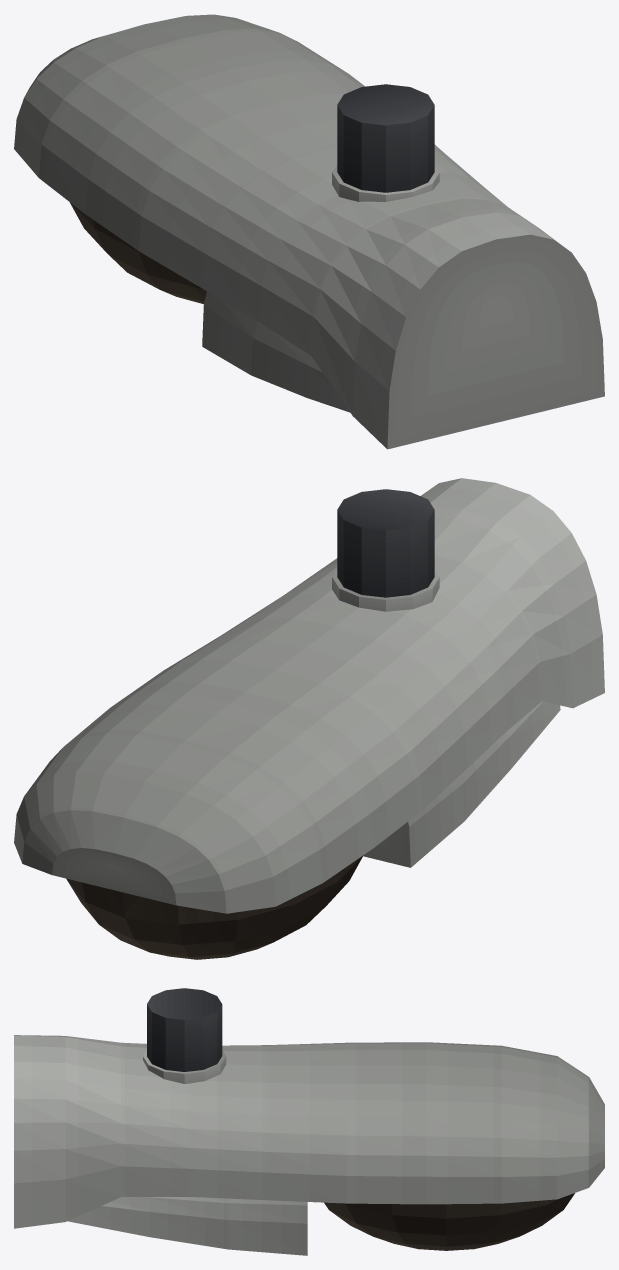
File: streetlight_whov25.obj
The picture shows the model from 3 angles, top to bottom: view 1: azimuth 30°, elevation 25°; view 2: azimuth 150°, elevation 25°; view 3: azimuth 270°, elevation 25°; orthographic projection. The views are drawn at different scales.
Parts seen in each view (by area): view 1: fixture; view 2: fixture; view 3: fixture.
Boxes of the visible parts, x1,y1,x2,y2 form: fixture: (14,14,604,449); fixture: (14,478,604,959); fixture: (14,988,604,1255).
Size of the model in its own units: 0.4062 by 0.4087 by 0.9312.
